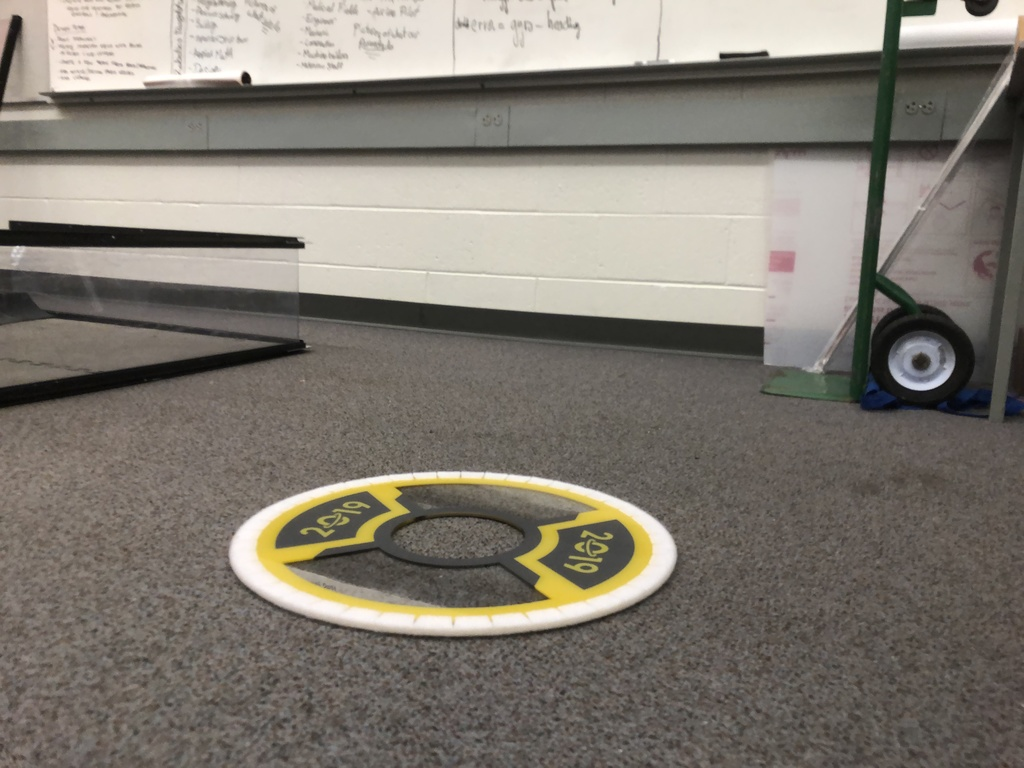hatch_panel: (218, 452, 697, 646)
